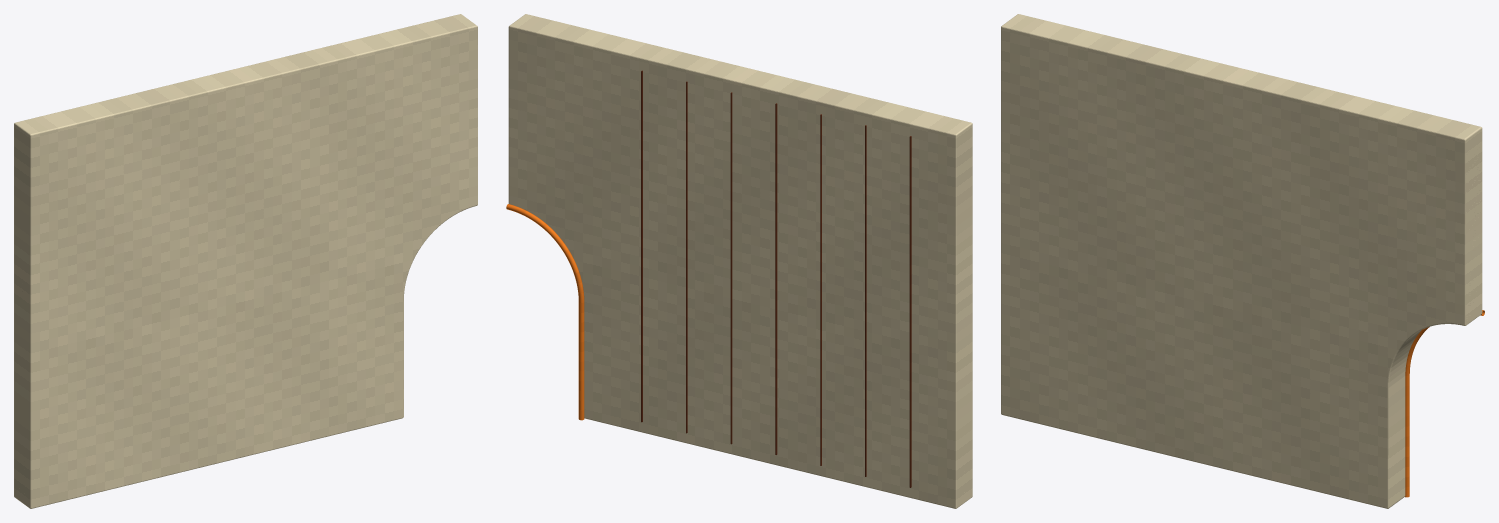
The model's file is seam_left.gltf.
3 views of the same model, side by side, from view 1: azimuth 30°, elevation 25°; view 2: azimuth 150°, elevation 25°; view 3: azimuth 330°, elevation 25° (orthographic). The views are drawn at different scales.
Parts seen in each view (by area): view 1: V14_seam_left; view 2: V14_seam_left; view 3: V14_seam_left.
Boxes of the visible parts, left/top/right/bottom form: V14_seam_left: left=14, top=14, right=477, bottom=508; V14_seam_left: left=506, top=14, right=972, bottom=508; V14_seam_left: left=1001, top=14, right=1484, bottom=508.
Bounding box in the file's own units: 10 × 8 × 0.7373.
3 materials, 3 textured.
